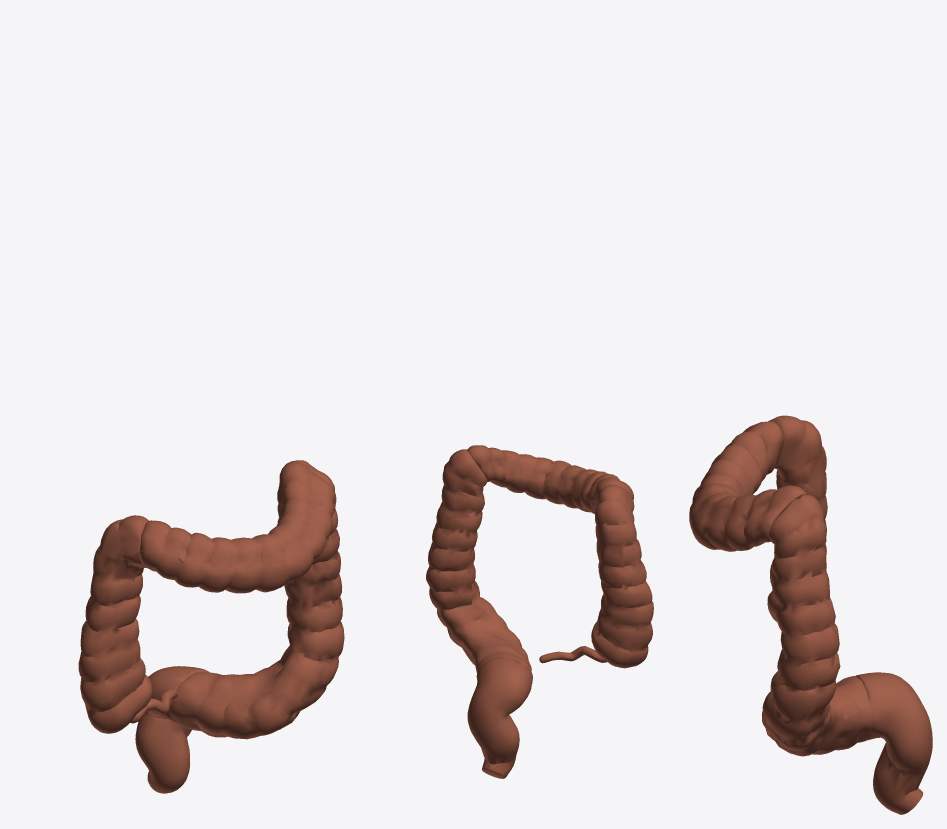
The model's file is yogon.glb.
3 views of the same model, side by side, from view 1: azimuth 30°, elevation 25°; view 2: azimuth 150°, elevation 25°; view 3: azimuth 270°, elevation 25° (orthographic). The views are drawn at different scales.
Parts seen in each view (by area): view 1: yogon; view 2: yogon; view 3: yogon.
Boxes of the visible parts, x1=… form: yogon: x1=78, y1=460, x2=344, y2=793; yogon: x1=426, y1=445, x2=653, y2=778; yogon: x1=689, y1=415, x2=932, y2=814.
Size of the model in its own units: 0.2441 by 0.7272 by 0.191.
